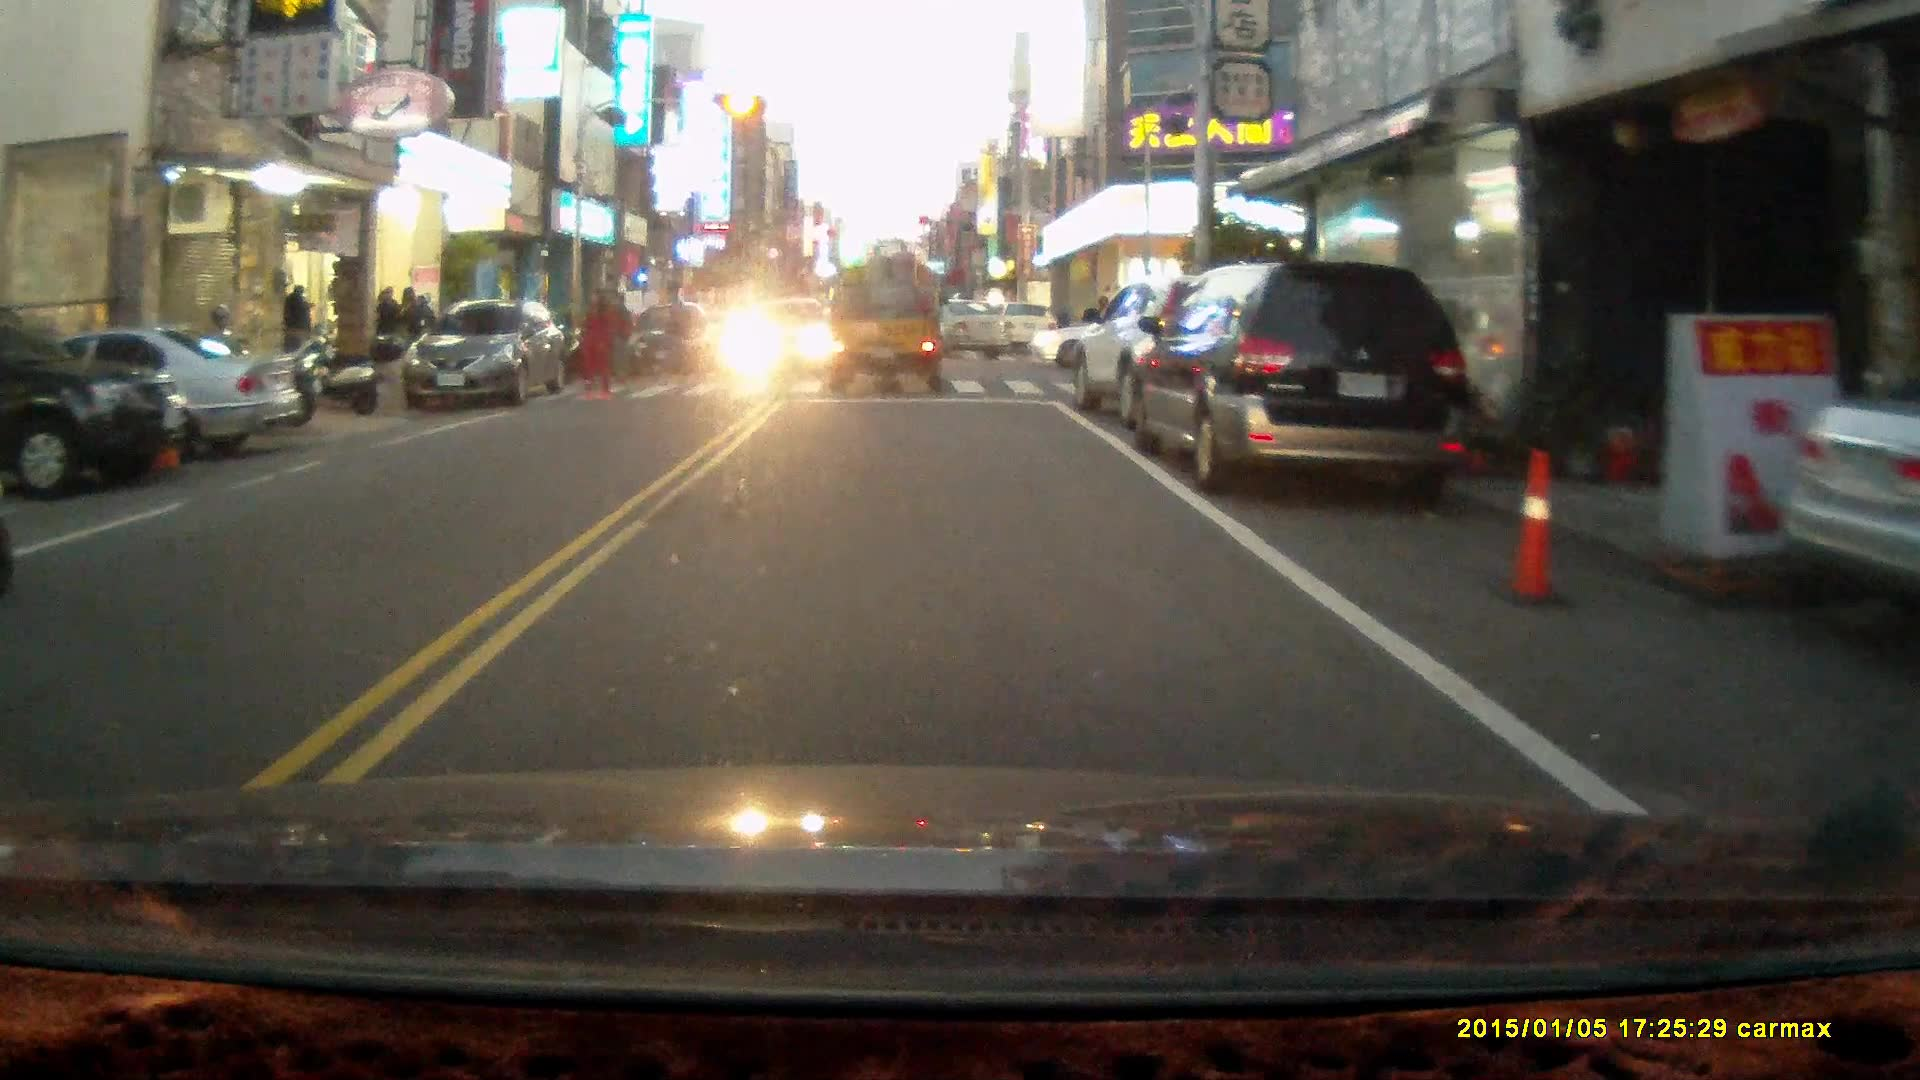pedestrian: (572, 283, 620, 396), (658, 279, 696, 383), (279, 280, 314, 370)
vehicle: (1121, 258, 1475, 490), (1, 327, 312, 467), (1068, 277, 1316, 431), (1, 307, 194, 504), (1780, 377, 1920, 581), (819, 234, 955, 391), (404, 300, 571, 410), (893, 300, 1015, 364), (722, 292, 826, 366), (625, 306, 721, 375)
